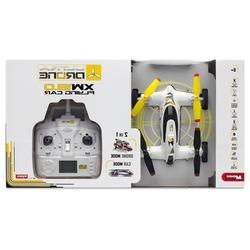drone: (133, 71, 218, 177)
